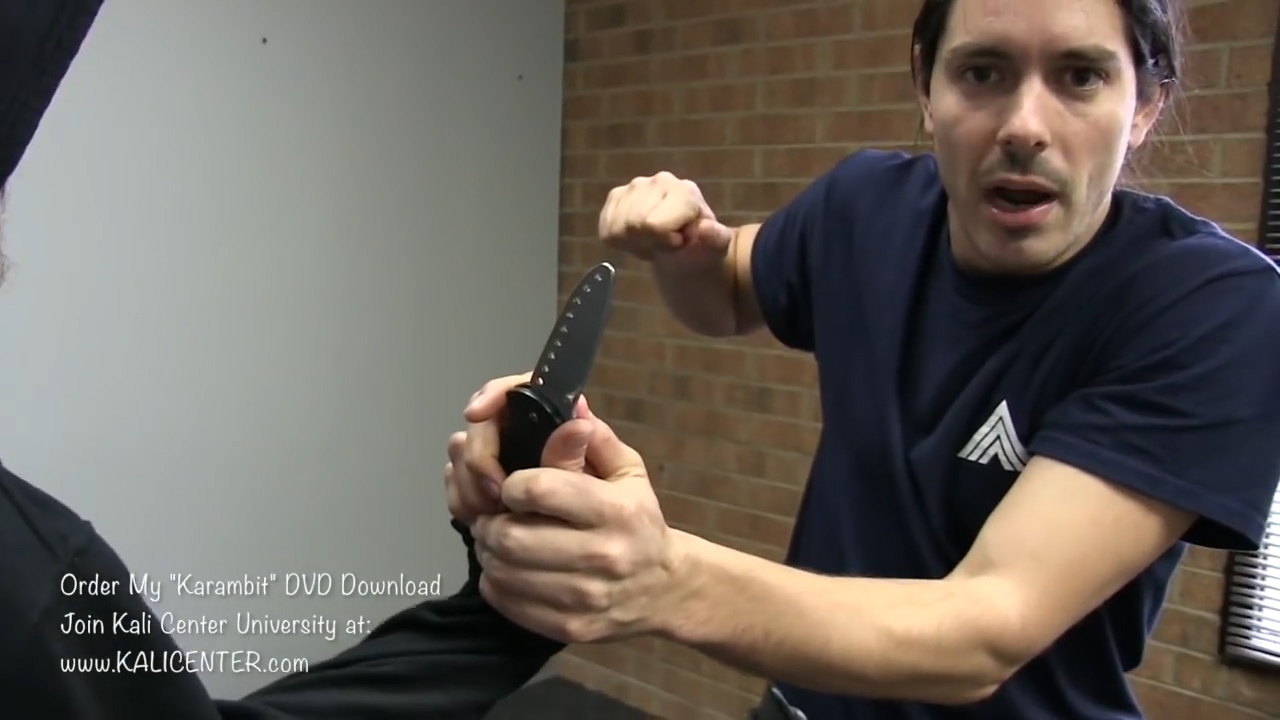knife: (431, 255, 622, 523)
